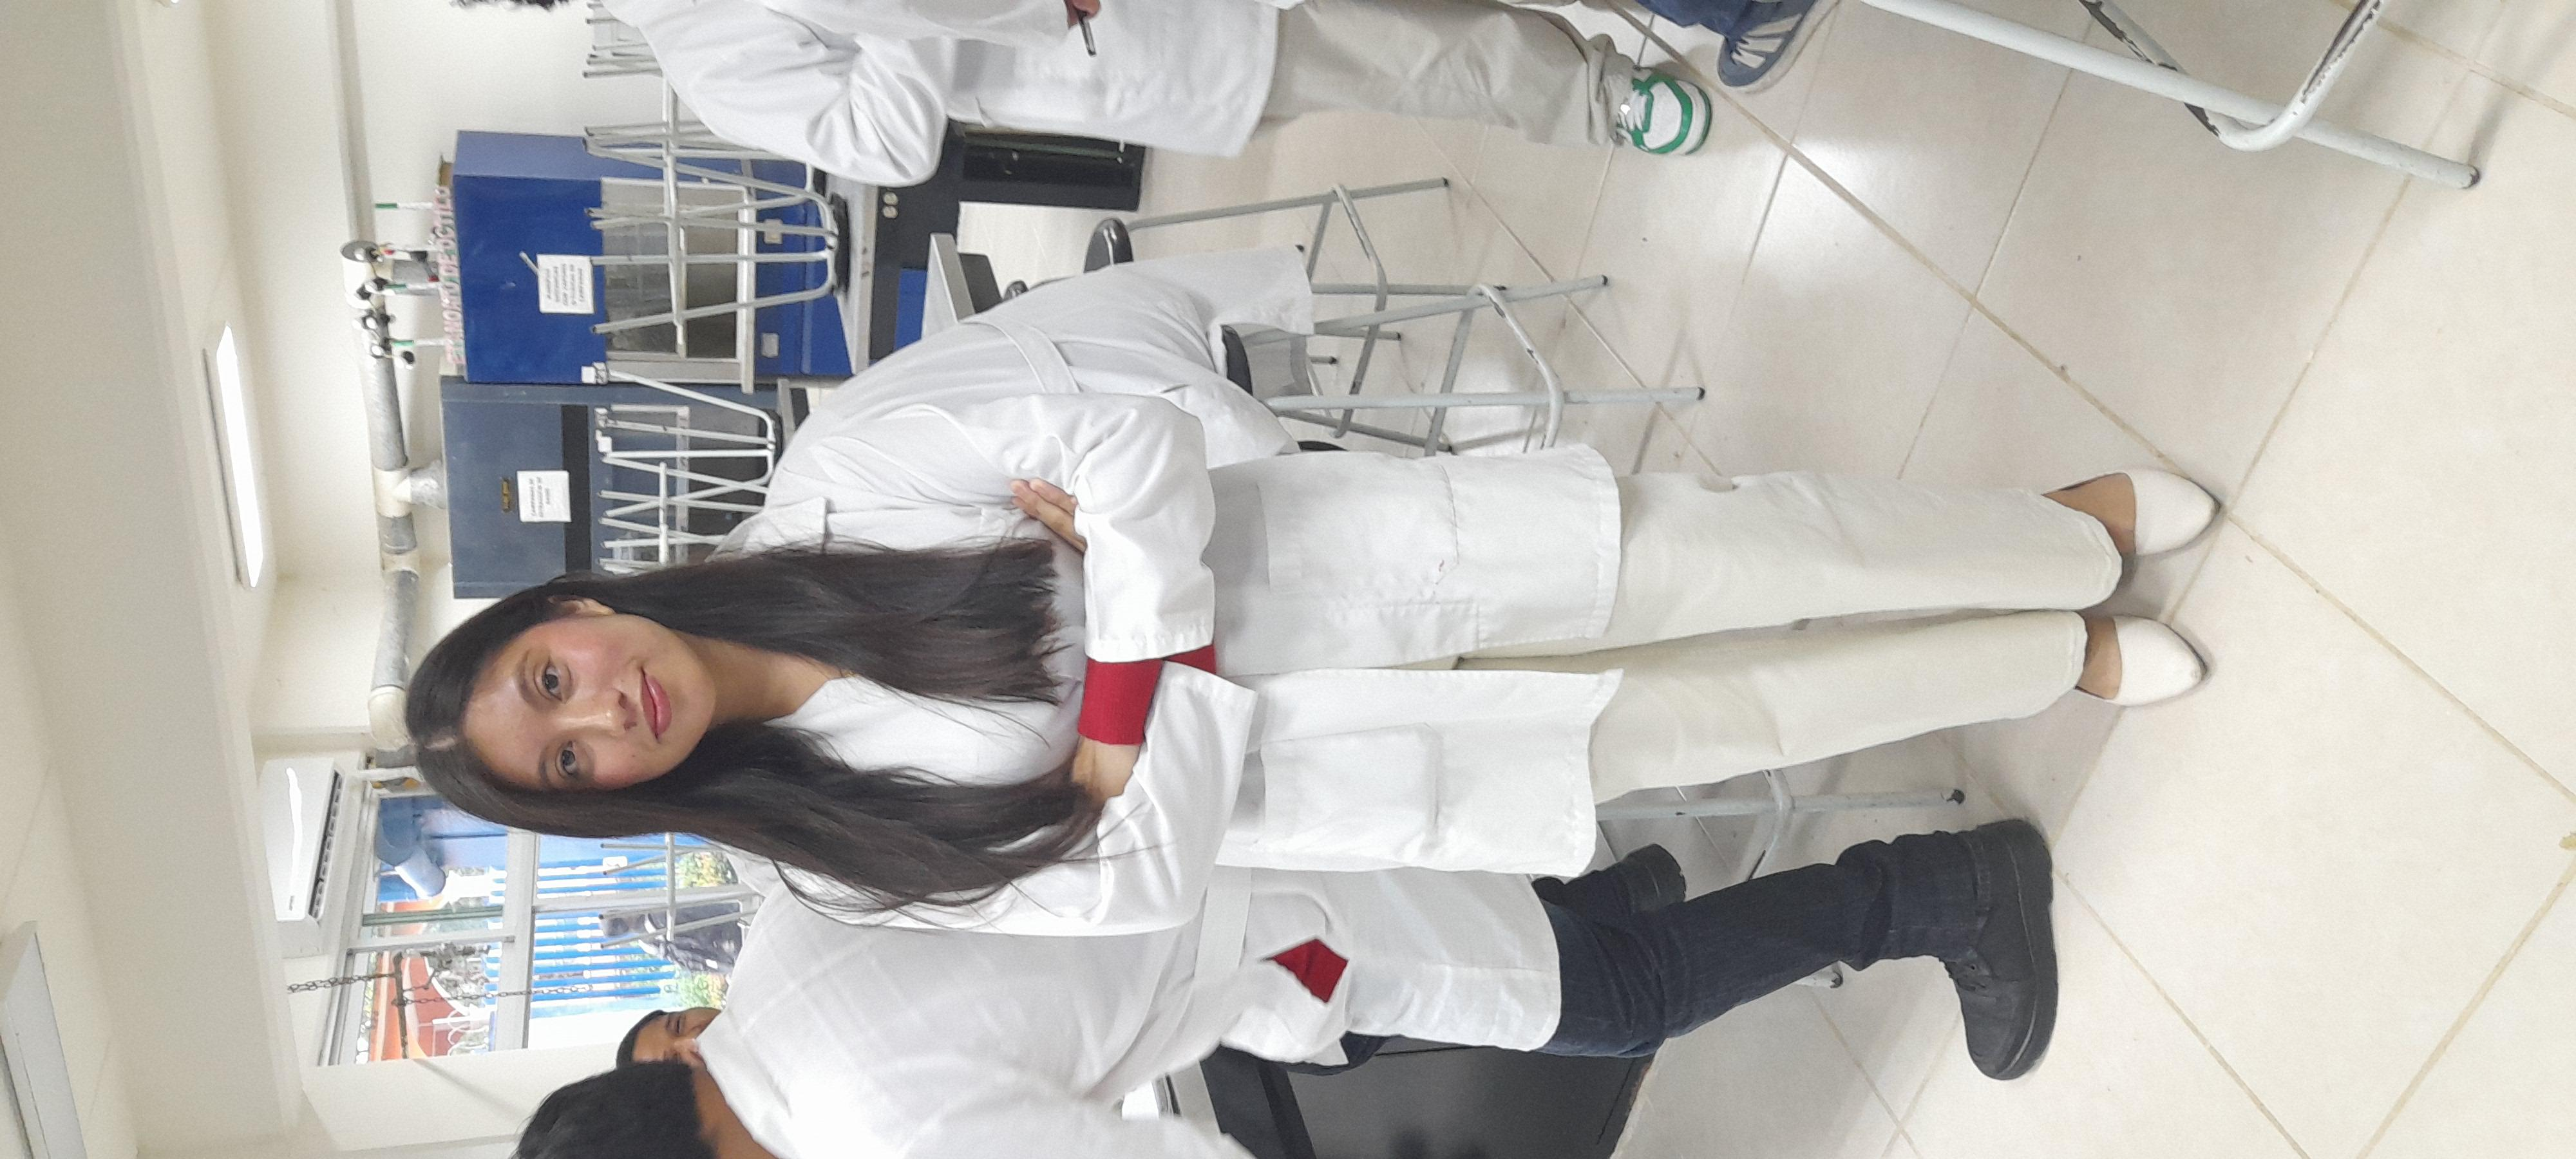Bata-Correcta: (498, 184, 1727, 996)
